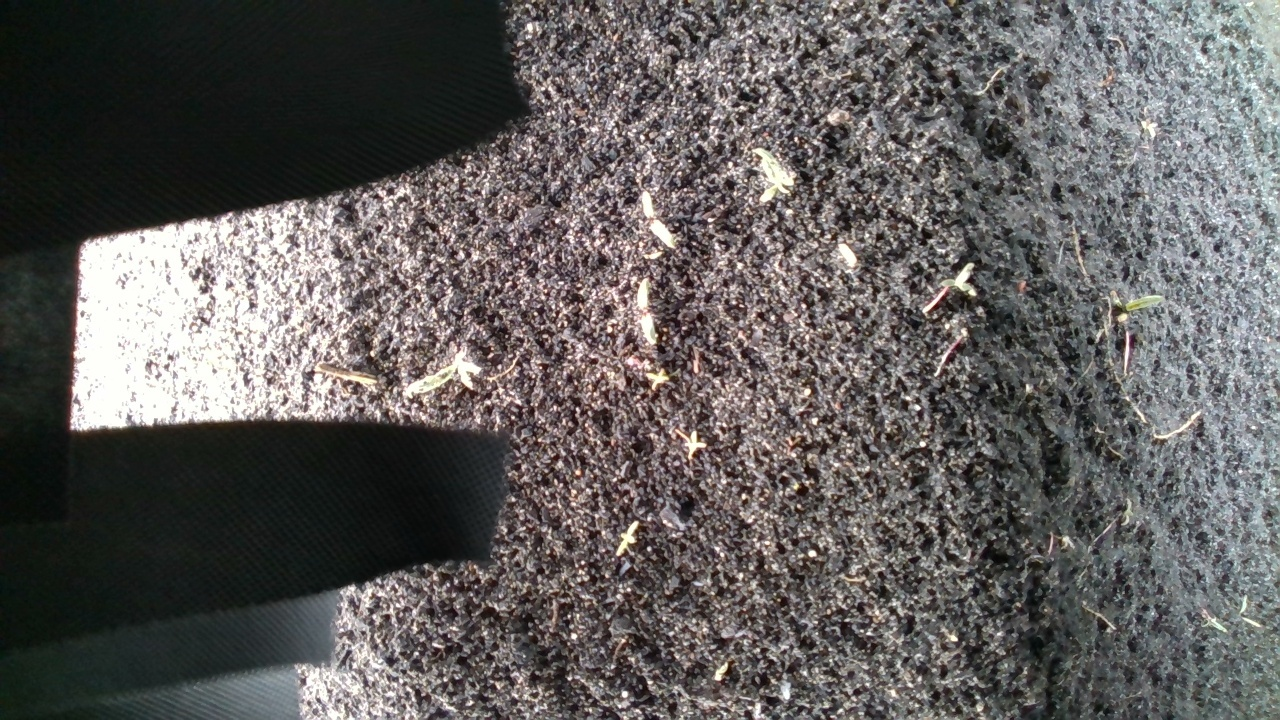weed: (940, 254, 998, 306), (1116, 283, 1172, 318), (637, 369, 686, 403), (676, 427, 707, 464)
